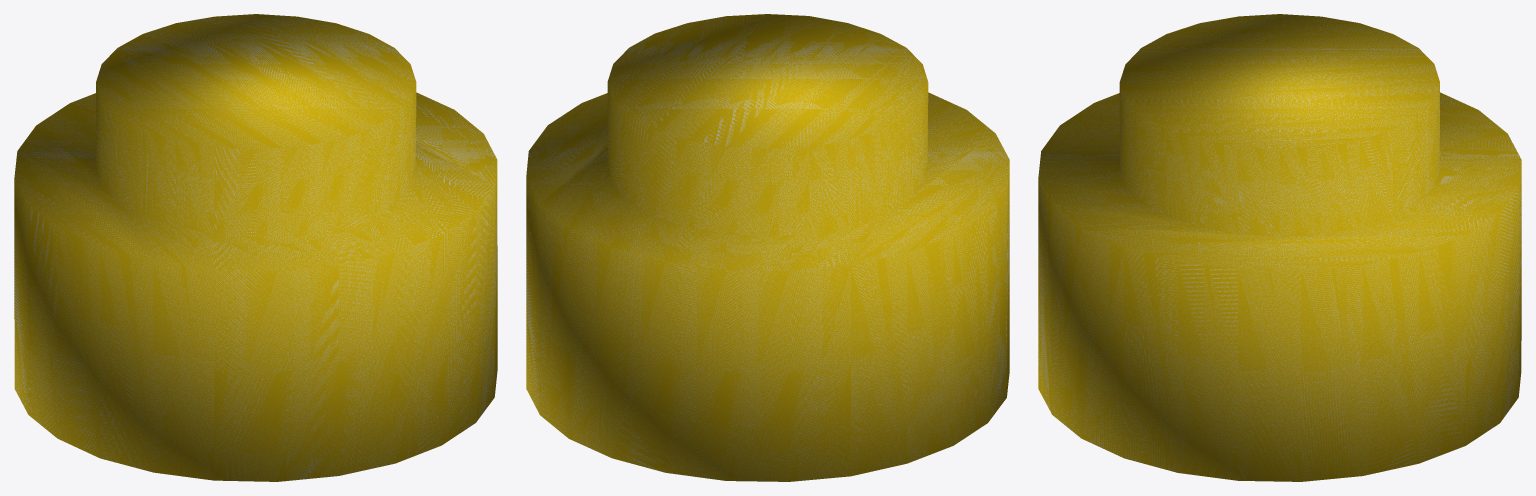
Rendered from original_2.obj.
3 renders of one model, left to right at view 1: azimuth 30°, elevation 25°; view 2: azimuth 150°, elevation 25°; view 3: azimuth 270°, elevation 25°, orthographic.
Parts seen in each view (by area): view 1: mesh2/mesh2-geometry#mesh2-geometry; view 2: mesh2/mesh2-geometry#mesh2-geometry; view 3: mesh2/mesh2-geometry#mesh2-geometry.
Boxes of the visible parts, x1,y1,x2,y2 form: mesh2/mesh2-geometry#mesh2-geometry: (14,14,497,481); mesh2/mesh2-geometry#mesh2-geometry: (526,14,1009,481); mesh2/mesh2-geometry#mesh2-geometry: (1038,14,1521,481).
Size of the model in its own units: 0.3704 by 0.2524 by 0.3704.
